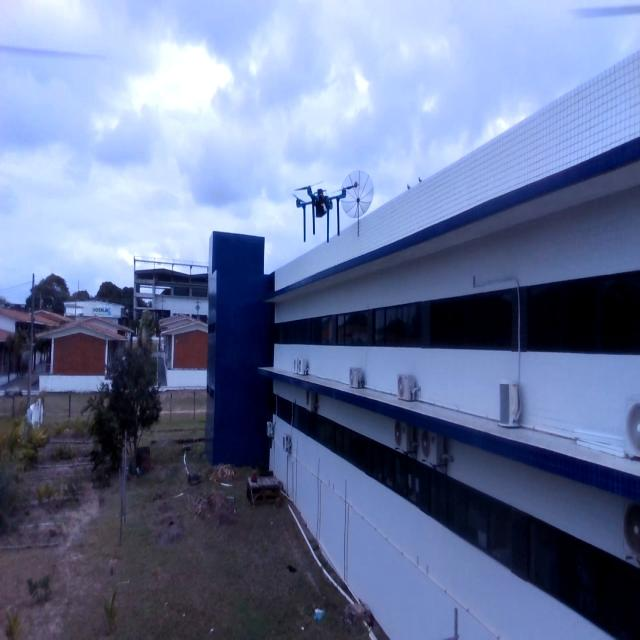-uav-: (283, 170, 357, 246)
